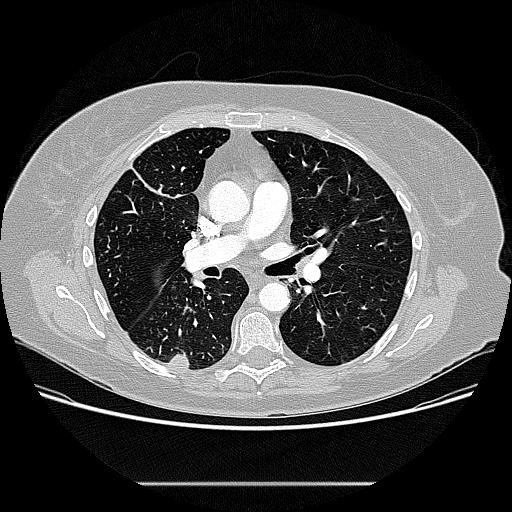nodule: (168, 351, 191, 374)
